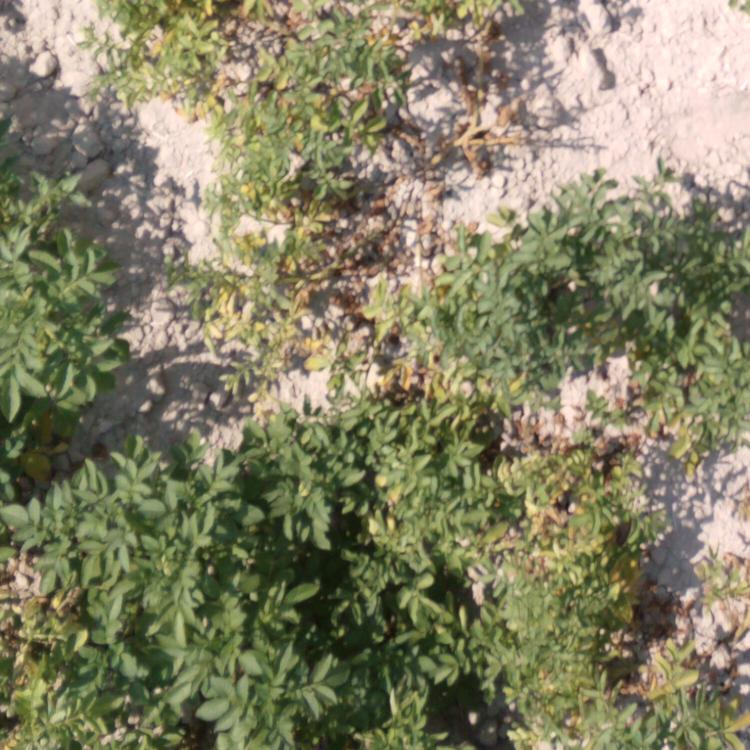healthy: (1, 435, 473, 750), (430, 177, 743, 369), (1, 181, 105, 438)
stressed: (198, 1, 404, 360), (491, 462, 653, 750), (411, 2, 515, 173), (665, 574, 750, 744), (102, 1, 205, 99), (366, 382, 551, 435), (656, 366, 749, 465)
